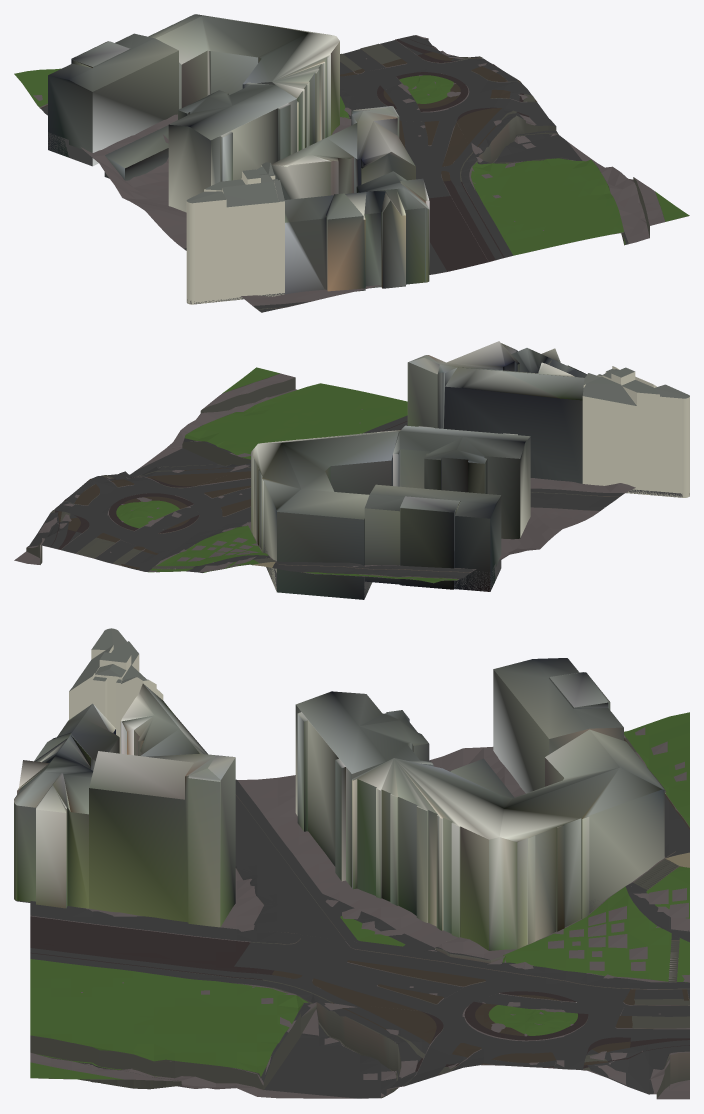
The picture shows the model from 3 angles, top to bottom: view 1: azimuth 30°, elevation 25°; view 2: azimuth 150°, elevation 25°; view 3: azimuth 270°, elevation 25°; orthographic projection. The views are drawn at different scales.
Visible parts, largest first — view 1: c_p01_p07; view 2: c_p01_p07; view 3: c_p01_p07.
Part boxes in pixels (x1=…): c_p01_p07: x1=14, y1=14, x2=689, y2=312; c_p01_p07: x1=14, y1=341, x2=689, y2=599; c_p01_p07: x1=14, y1=628, x2=689, y2=1099.
Bounding box in the file's own units: 141 × 38.12 × 131.
